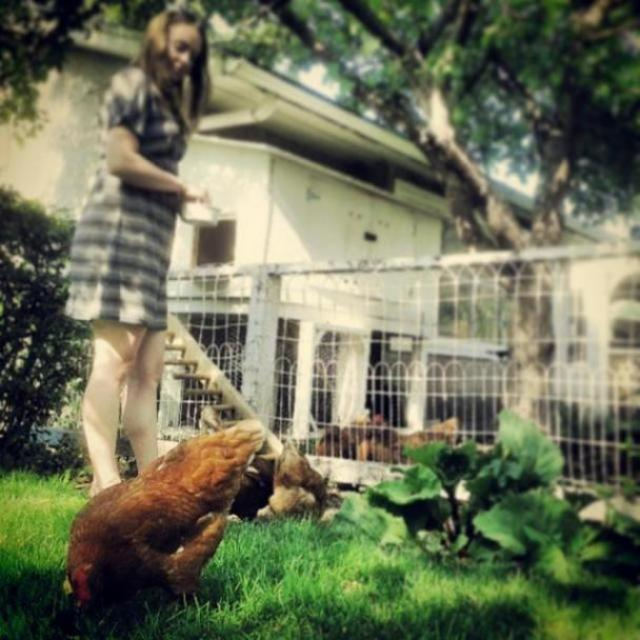Chicken: (62, 420, 292, 628)
